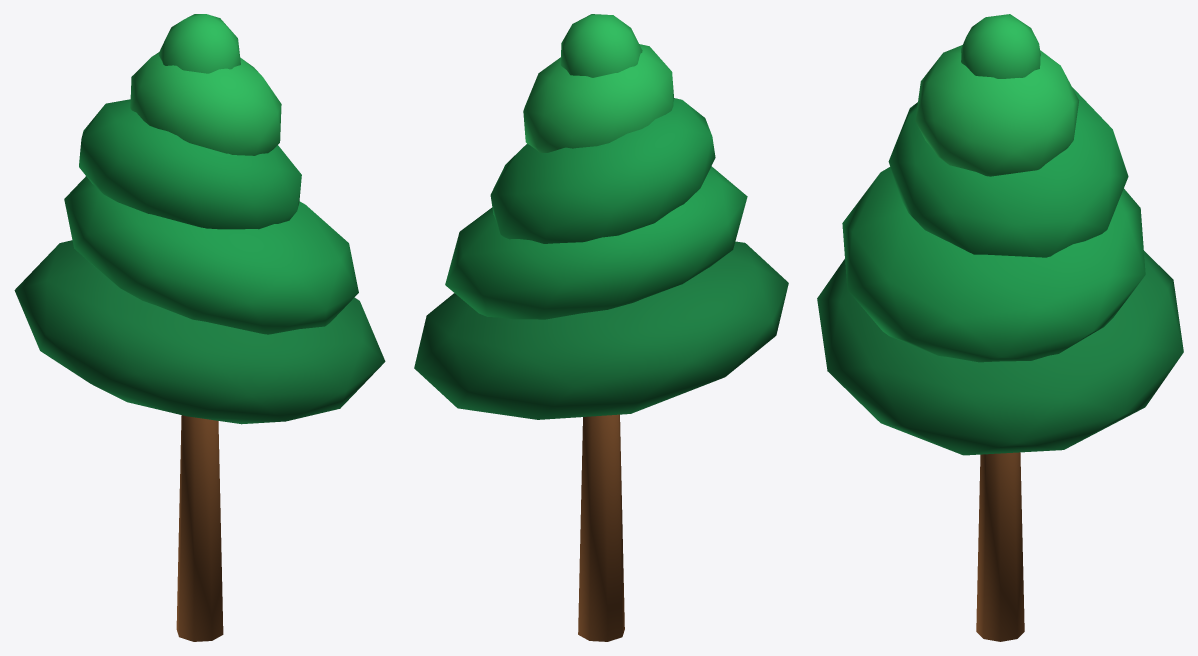
Rendered from pine.glb.
The picture shows the model from 3 angles, left to right: view 1: azimuth 30°, elevation 25°; view 2: azimuth 150°, elevation 25°; view 3: azimuth 270°, elevation 25°; orthographic projection.
Parts seen in each view (by area): view 1: pine_tier0, pine_tier1, pine_tier2, pine_tier3, pine_trunk, pine_tier4; view 2: pine_tier0, pine_tier1, pine_tier2, pine_tier3, pine_trunk, pine_tier4; view 3: pine_tier0, pine_tier1, pine_tier2, pine_tier3, pine_trunk, pine_tier4.
Part boxes in pixels (bbox=[...]): pine_tier0: bbox=[14, 240, 385, 424]; pine_tier1: bbox=[64, 176, 358, 334]; pine_tier2: bbox=[79, 99, 301, 229]; pine_tier3: bbox=[130, 52, 281, 155]; pine_trunk: bbox=[176, 415, 223, 641]; pine_tier4: bbox=[158, 14, 240, 73]; pine_tier0: bbox=[414, 241, 788, 419]; pine_tier1: bbox=[445, 166, 747, 319]; pine_tier2: bbox=[490, 98, 715, 243]; pine_tier3: bbox=[523, 44, 673, 152]; pine_trunk: bbox=[578, 414, 624, 641]; pine_tier4: bbox=[560, 14, 642, 77]; pine_tier0: bbox=[817, 251, 1183, 455]; pine_tier1: bbox=[842, 167, 1145, 362]; pine_tier2: bbox=[888, 87, 1128, 257]; pine_tier3: bbox=[915, 45, 1079, 176]; pine_trunk: bbox=[976, 452, 1024, 641]; pine_tier4: bbox=[961, 14, 1040, 78].
Size of the model in its own units: 2.33 by 4.21 by 2.27.
